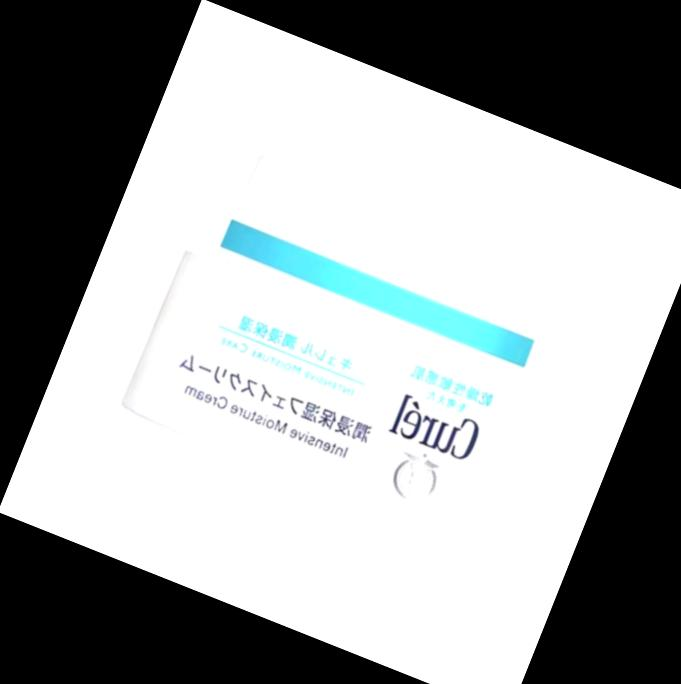cosmetic: (117, 135, 601, 556)
